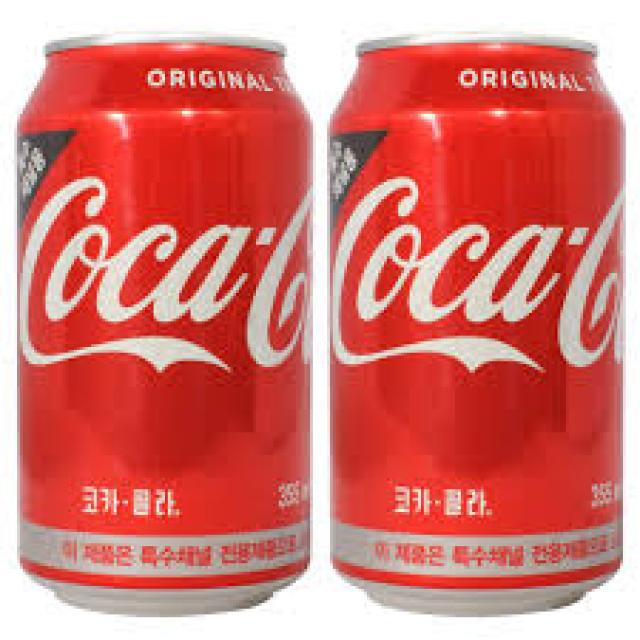Coca-Cola: (8, 28, 322, 620), (322, 29, 632, 620)
